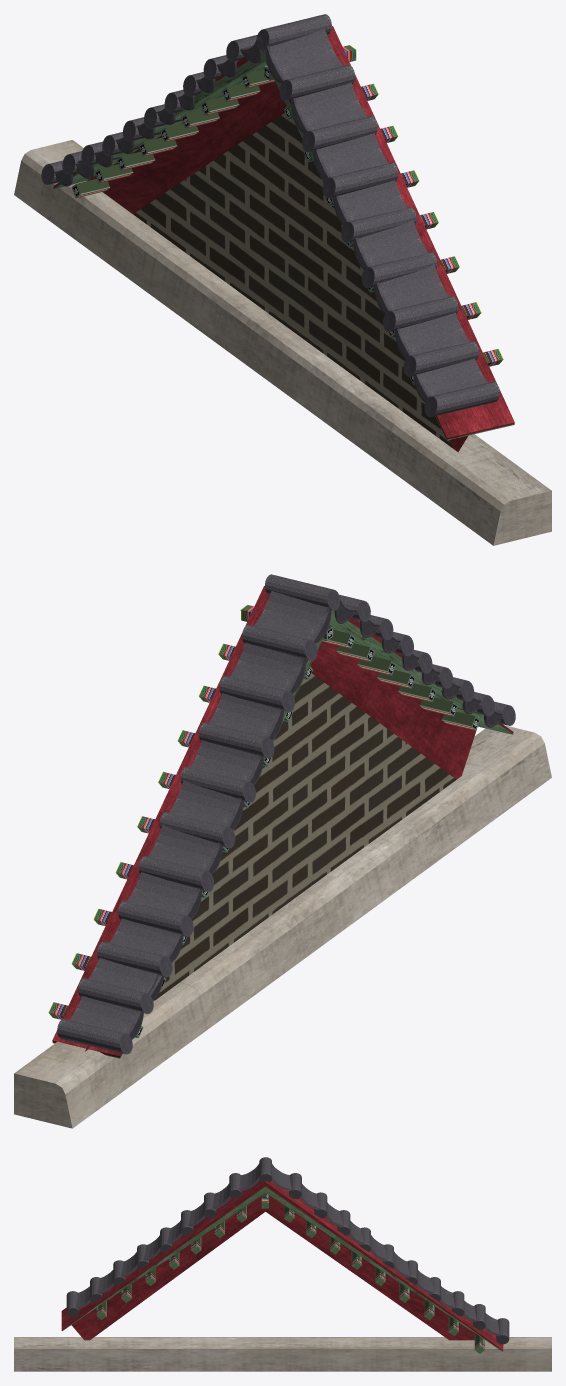
The model's file is SM_R_RoofOuter_9.fbx.
The picture shows the model from 3 angles, top to bottom: view 1: azimuth 30°, elevation 25°; view 2: azimuth 150°, elevation 25°; view 3: azimuth 270°, elevation 25°; orthographic projection. The views are drawn at different scales.
Visible parts, largest first — view 1: SM_R_RoofOuter_9; view 2: SM_R_RoofOuter_9; view 3: SM_R_RoofOuter_9.
Part boxes in pixels (x1,y1,x2,y2): SM_R_RoofOuter_9: [14, 14, 551, 545]; SM_R_RoofOuter_9: [14, 574, 551, 1128]; SM_R_RoofOuter_9: [14, 1157, 551, 1371].
Size of the model in its own units: 112 by 960 by 389.
Materials: 4 (4 with a texture image).
